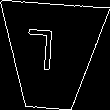L_S: (36, 30, 67, 83)
